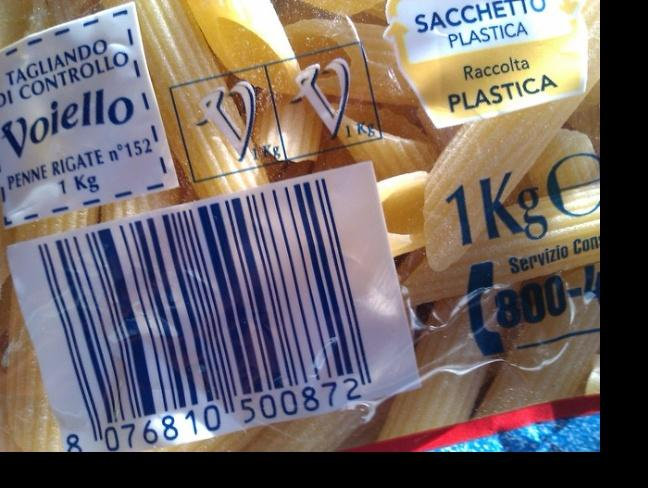Barcode: (35, 175, 377, 452)
